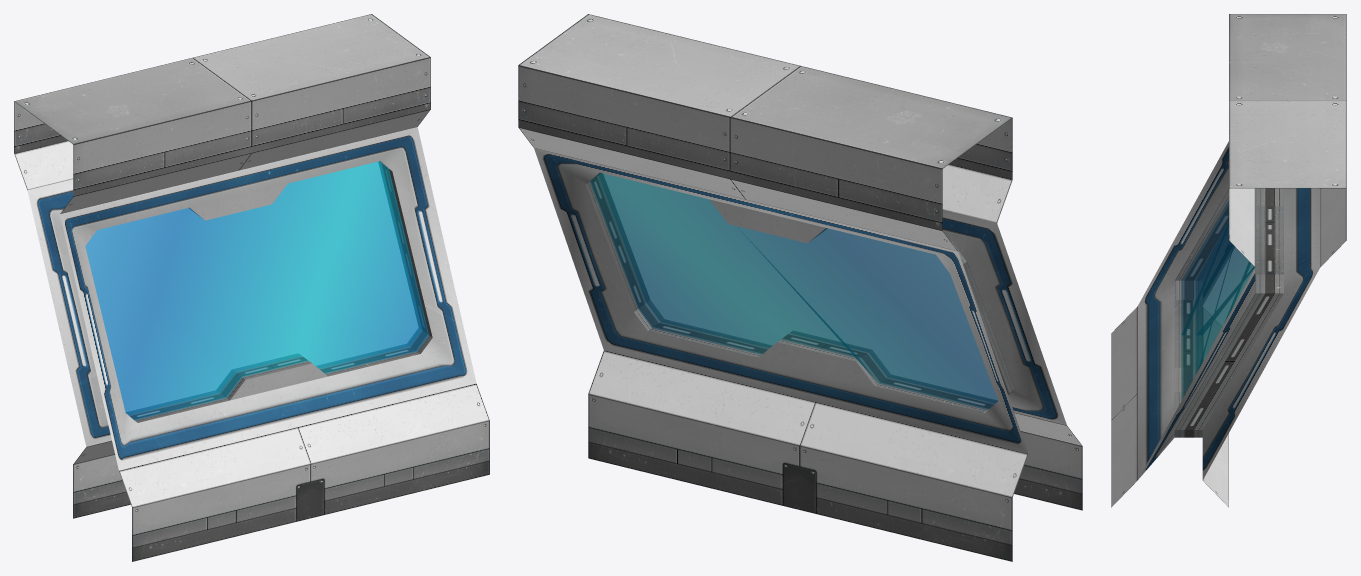
The model's file is Wall_Window_Short_01_B.FBX.
The picture shows the model from 3 angles, left to right: view 1: azimuth 30°, elevation 25°; view 2: azimuth 150°, elevation 25°; view 3: azimuth 270°, elevation 25°; orthographic projection. The views are drawn at different scales.
Visible parts, largest first — view 1: Wall_Window_Short_01_B; view 2: Wall_Window_Short_01_B; view 3: Wall_Window_Short_01_B.
Part boxes in pixels (x1,y1,x2,y2): Wall_Window_Short_01_B: (14, 14, 489, 561); Wall_Window_Short_01_B: (518, 14, 1082, 561); Wall_Window_Short_01_B: (1111, 14, 1346, 507).
Bounding box in the file's own units: 140 × 140 × 80.
